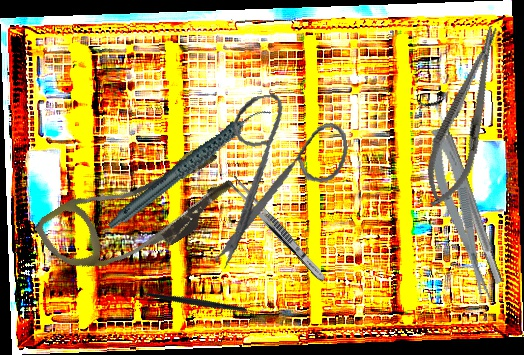Cannula: (32, 122, 244, 302)
Chopper: (146, 252, 268, 351)
Dressing Forceps: (226, 174, 329, 285)
Fixation Ring: (415, 89, 515, 289)
Handpiece: (90, 104, 288, 231)
Iris Scissors: (189, 83, 364, 271)
Micro Scissor: (422, 125, 498, 306)
Needle Holder: (414, 20, 517, 214)
